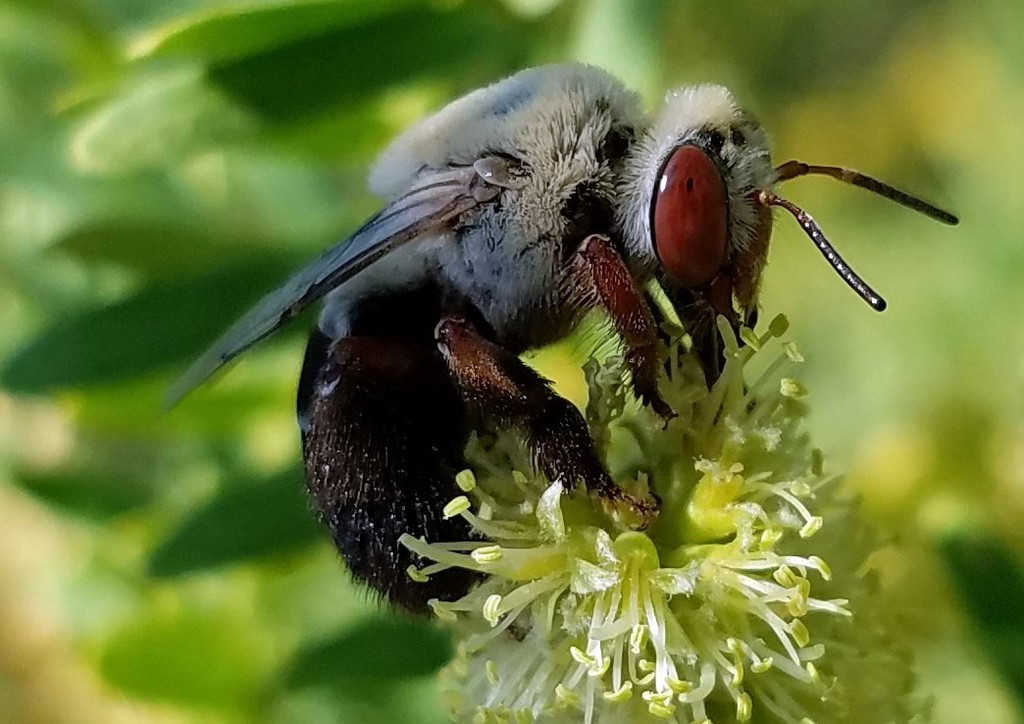not_bumblebee: (161, 57, 965, 640)
